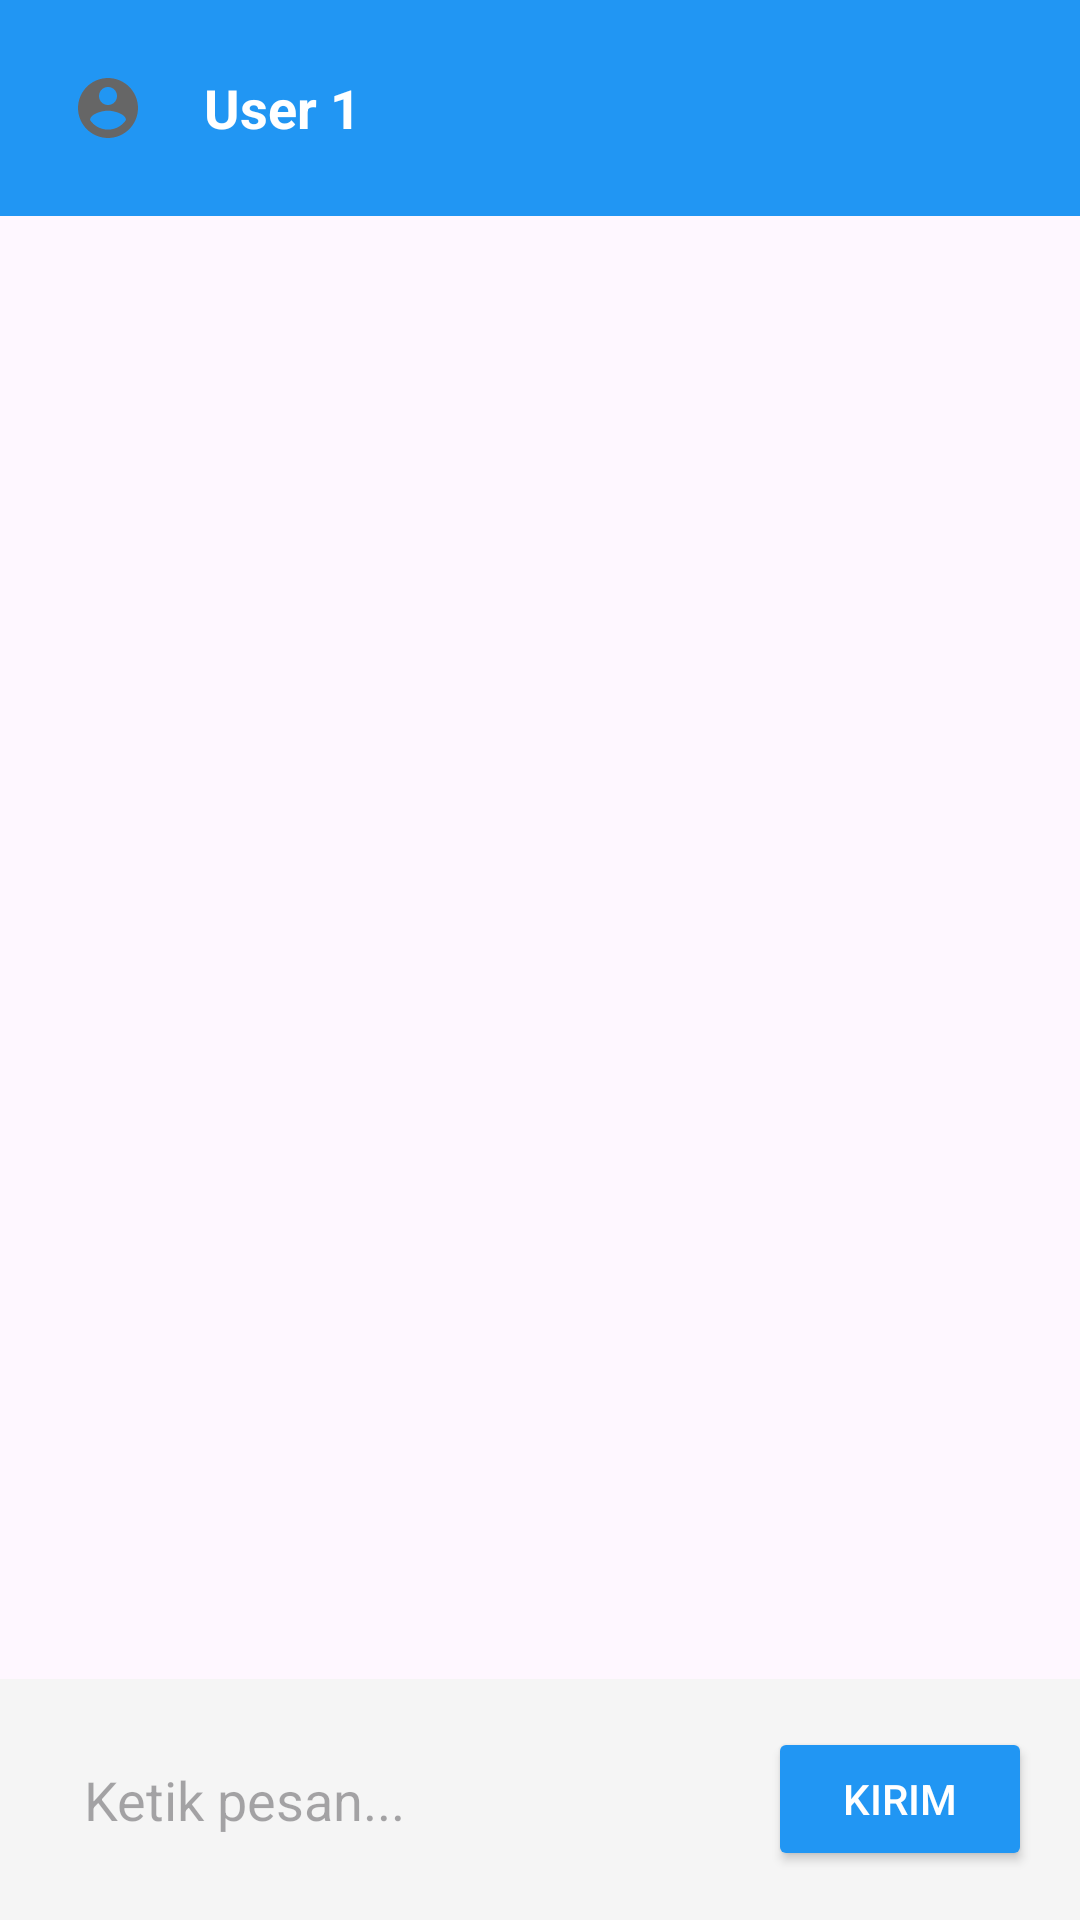

Screen size 1080w x 1920h. Icon name, then its center in pixels as point (x, y):
person: point (108, 108)
